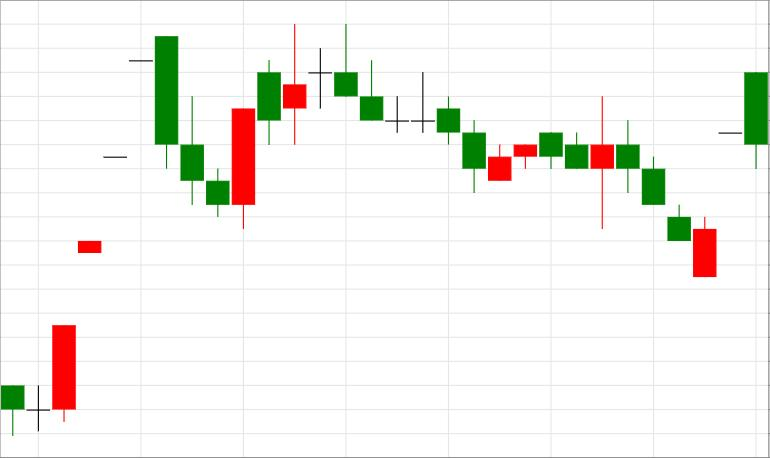bullish_engulfing_rise: (129, 36, 255, 229)
